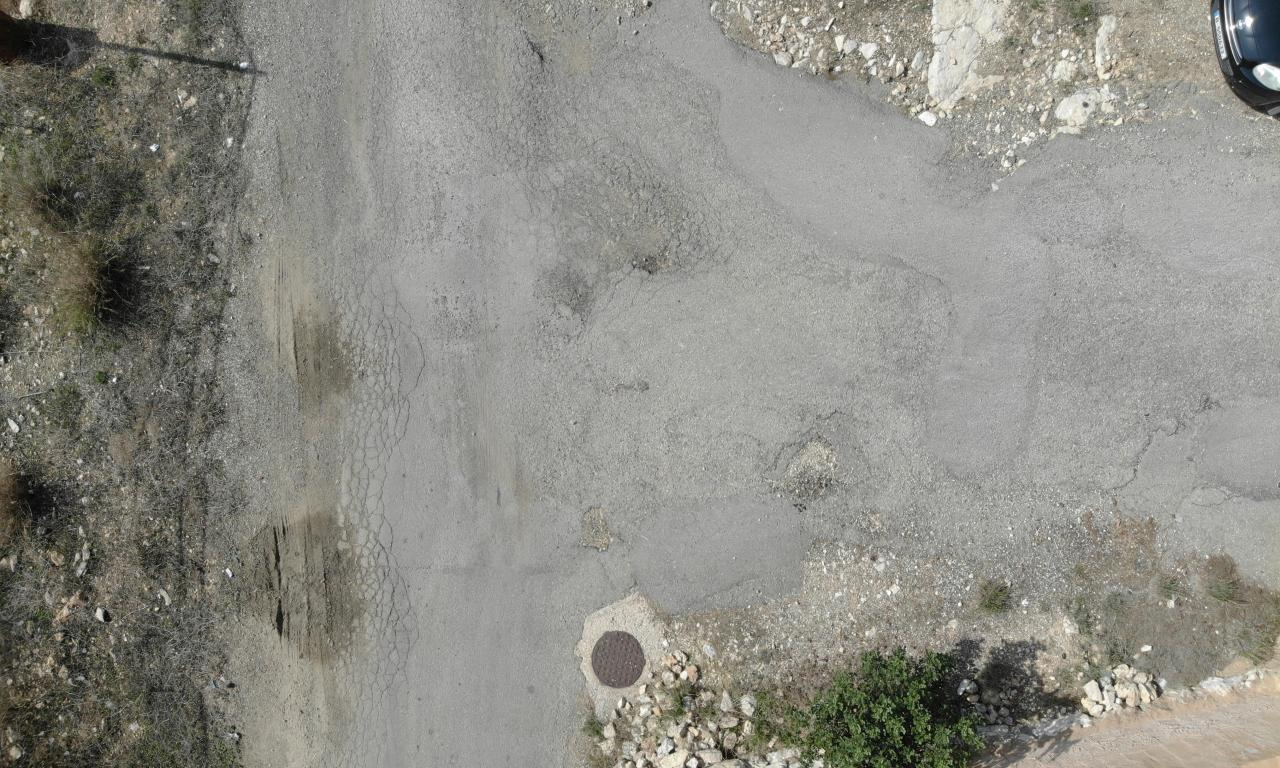BACHE: (255, 522, 347, 660), (283, 313, 353, 420), (783, 436, 837, 498), (581, 507, 610, 552)
PARCHE: (659, 7, 1044, 471), (639, 497, 797, 610), (1128, 402, 1276, 519)
PIEL DE COCODRILO: (457, 5, 729, 324), (318, 243, 429, 767), (890, 301, 949, 470)
